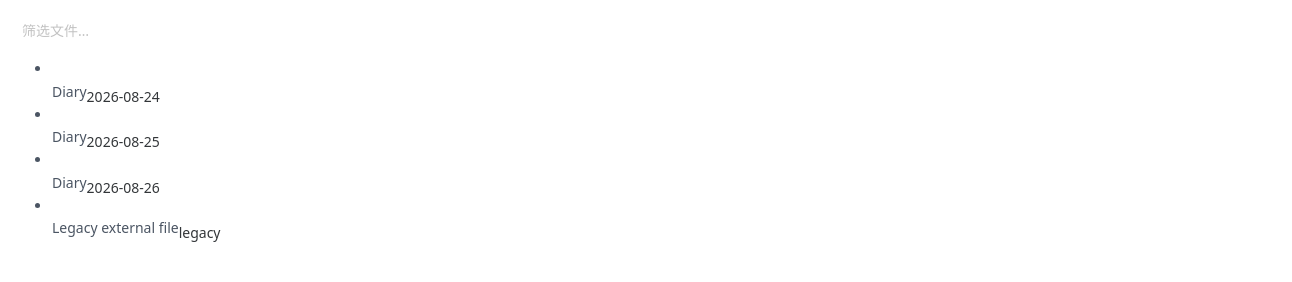
Diary FileTree presentation boundary › keeps Diary path search and hides path hints for active and searched rows
In the field with class "search-input": (652, 30) x1=22 y1=16 x2=1282 y2=44, type "diary"
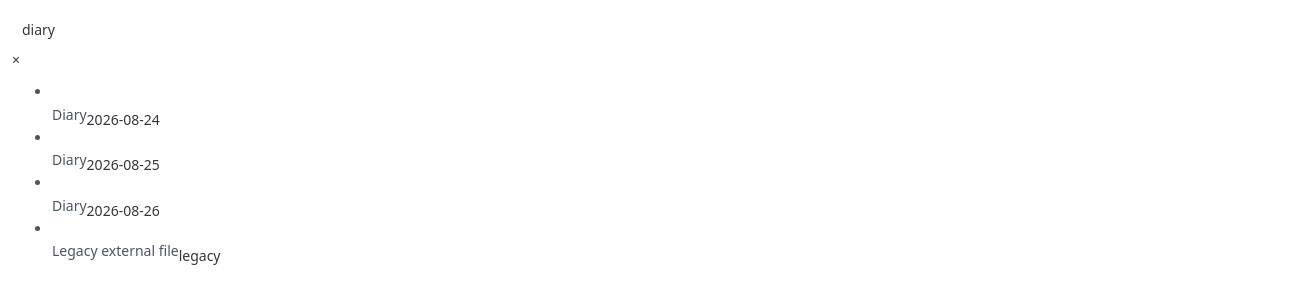
Expected: the number of list items with class "tree-row" is 4, x1=52 y1=105 x2=160 y2=127; x1=52 y1=150 x2=160 y2=172; x1=52 y1=196 x2=160 y2=218; x1=52 y1=241 x2=220 y2=263
Replace the text in the field with class "search-input" with "2026-08": (652, 30) x1=22 y1=16 x2=1282 y2=44
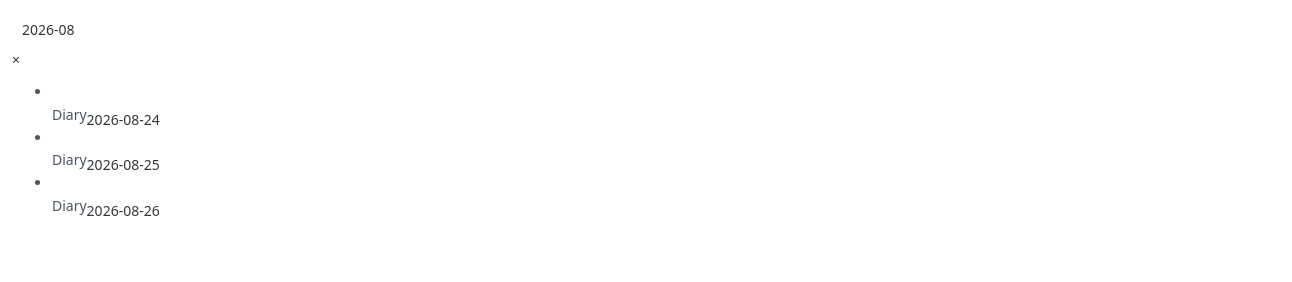
Expected: the list item "Diary 2026-08-24" is shown, x1=52 y1=105 x2=160 y2=127
Result: the number of list items with class "tree-row" is 3 at x1=52 y1=105 x2=160 y2=127; x1=52 y1=150 x2=160 y2=172; x1=52 y1=196 x2=160 y2=218
